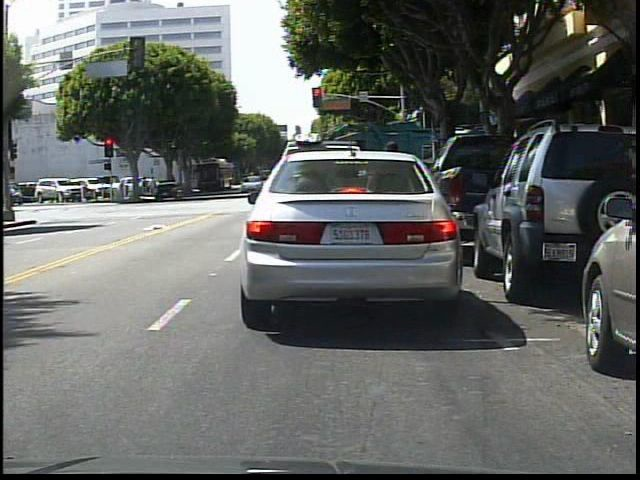person: (375, 140, 413, 265)
